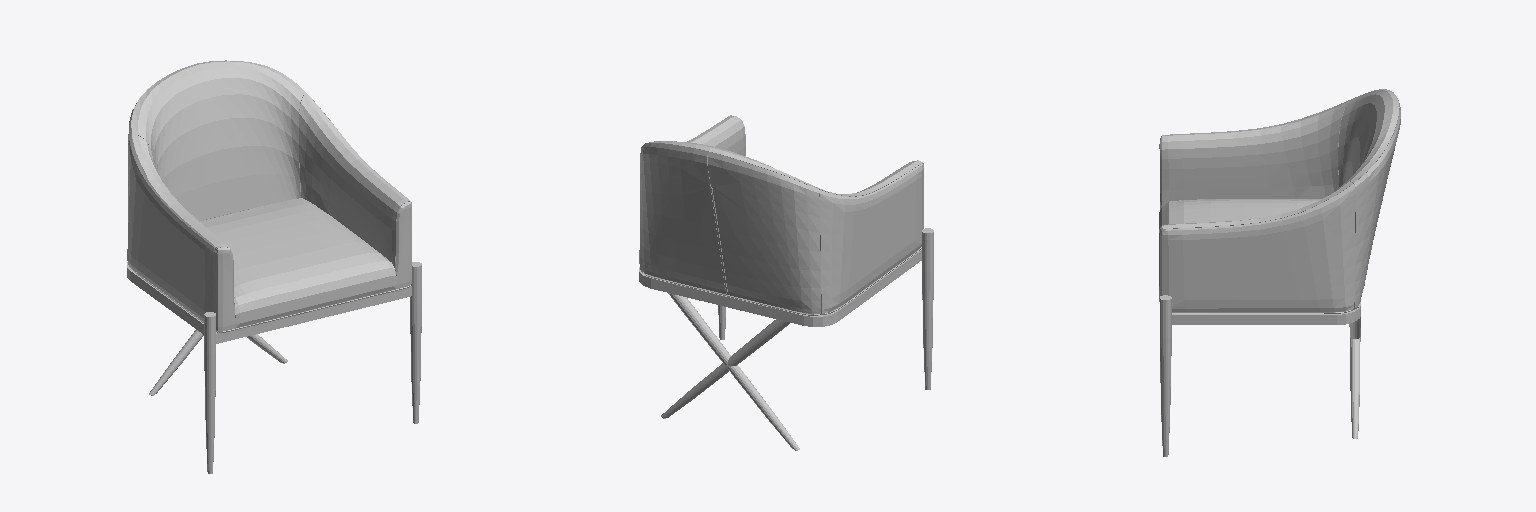
The model's file is chair-058.obj.
3 renders of one model, left to right at view 1: azimuth 30°, elevation 25°; view 2: azimuth 150°, elevation 25°; view 3: azimuth 270°, elevation 25°, orthographic.
Visible parts, largest first — view 1: chair; view 2: chair; view 3: chair.
Part boxes in pixels (x1,y1,x2,y2): chair: (127, 60, 421, 473); chair: (639, 115, 933, 450); chair: (1159, 89, 1400, 456).
Bounding box in the file's own units: 0.603 × 0.7987 × 0.5851.